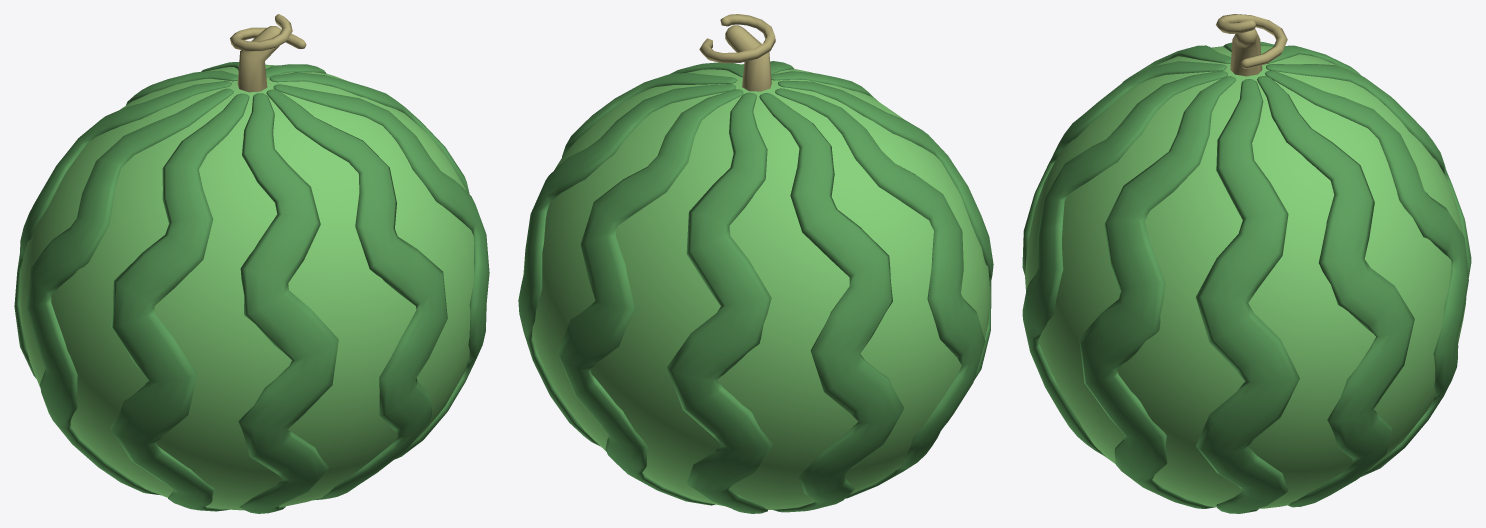
The model's file is veg_melon.glb.
The picture shows the model from 3 angles, left to right: view 1: azimuth 30°, elevation 25°; view 2: azimuth 150°, elevation 25°; view 3: azimuth 270°, elevation 25°; orthographic projection. The views are drawn at different scales.
Parts seen in each view (by area): view 1: veg_melon; view 2: veg_melon; view 3: veg_melon.
Boxes of the visible parts, x1=… form: veg_melon: x1=14, y1=14, x2=489, y2=513; veg_melon: x1=518, y1=14, x2=993, y2=513; veg_melon: x1=1022, y1=14, x2=1471, y2=513.
Size of the model in its own units: 0.6157 by 0.6465 by 0.5476.
